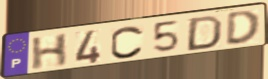4: (73, 28, 104, 65)
5: (151, 19, 182, 54)
C: (109, 25, 146, 60)
D: (184, 14, 225, 53), (224, 9, 262, 47)
H: (30, 31, 71, 72)
